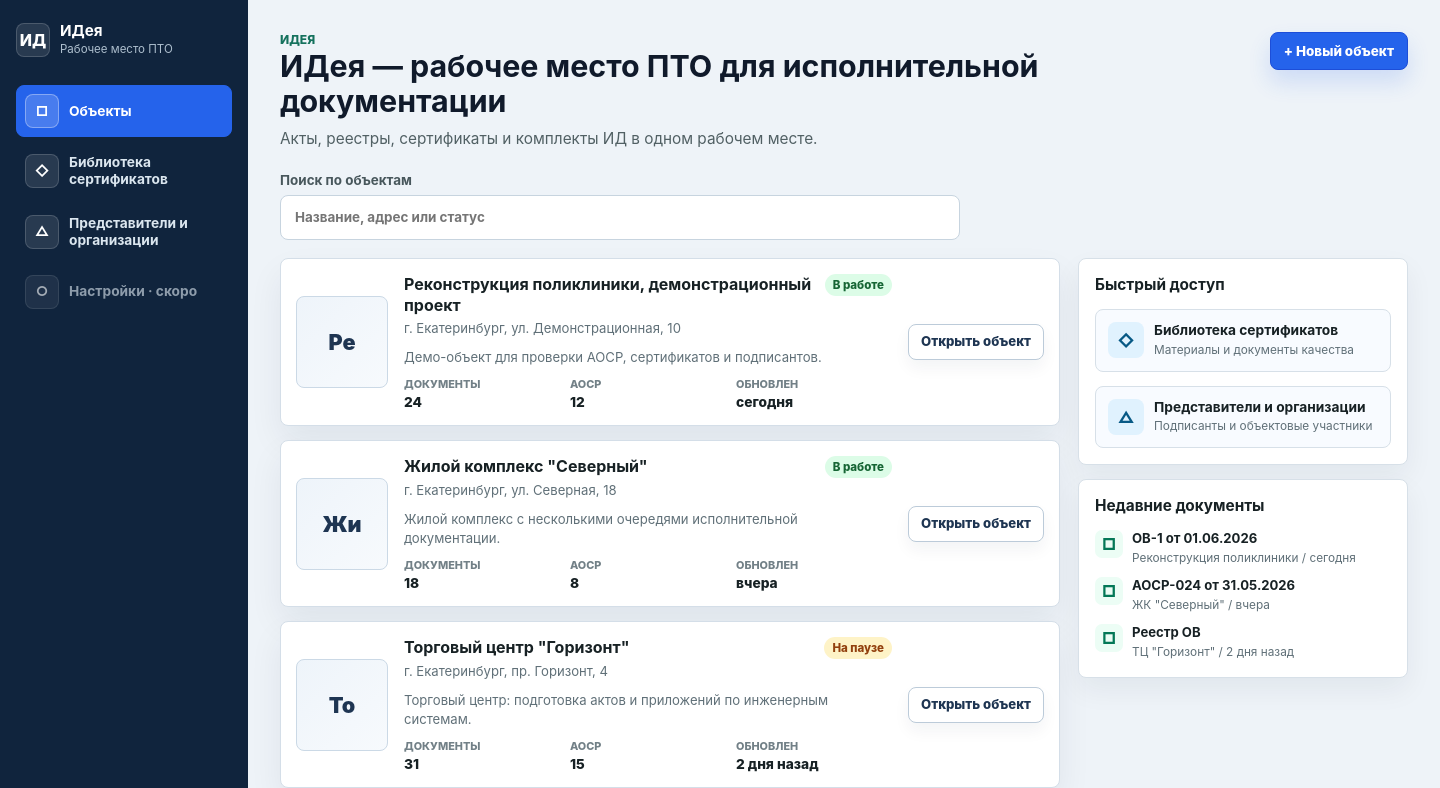
it: App shell mock navigation › opens a frontend-only intermediate ID page derived from the selected folder
This screenshot has width=1440, height=788.
Click the 1st link "Открыть объект" at (976,342), box [908, 324, 1044, 360]
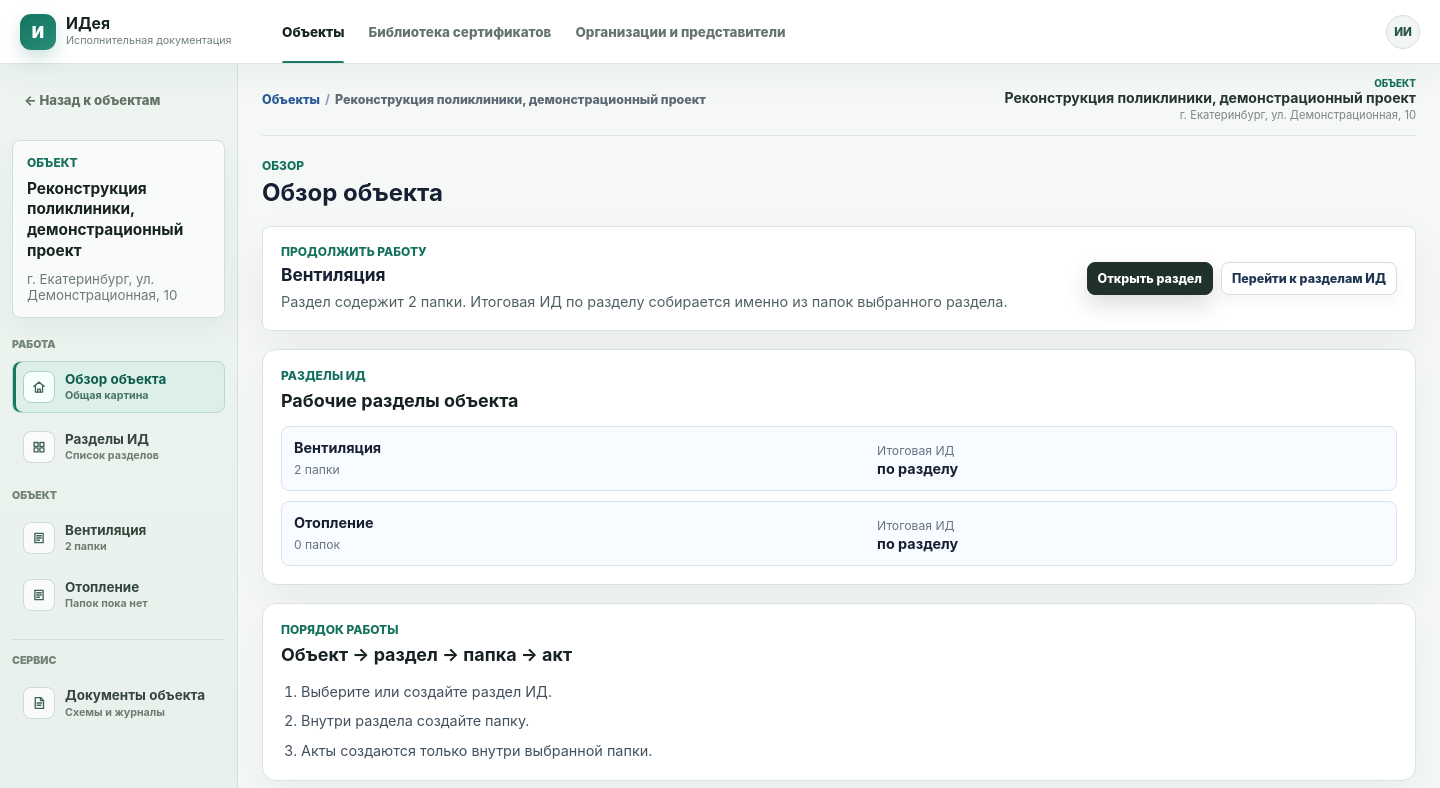
Click the link with aria-label "Открыть раздел Вентиляция" at (85,538), box [23, 522, 146, 554]
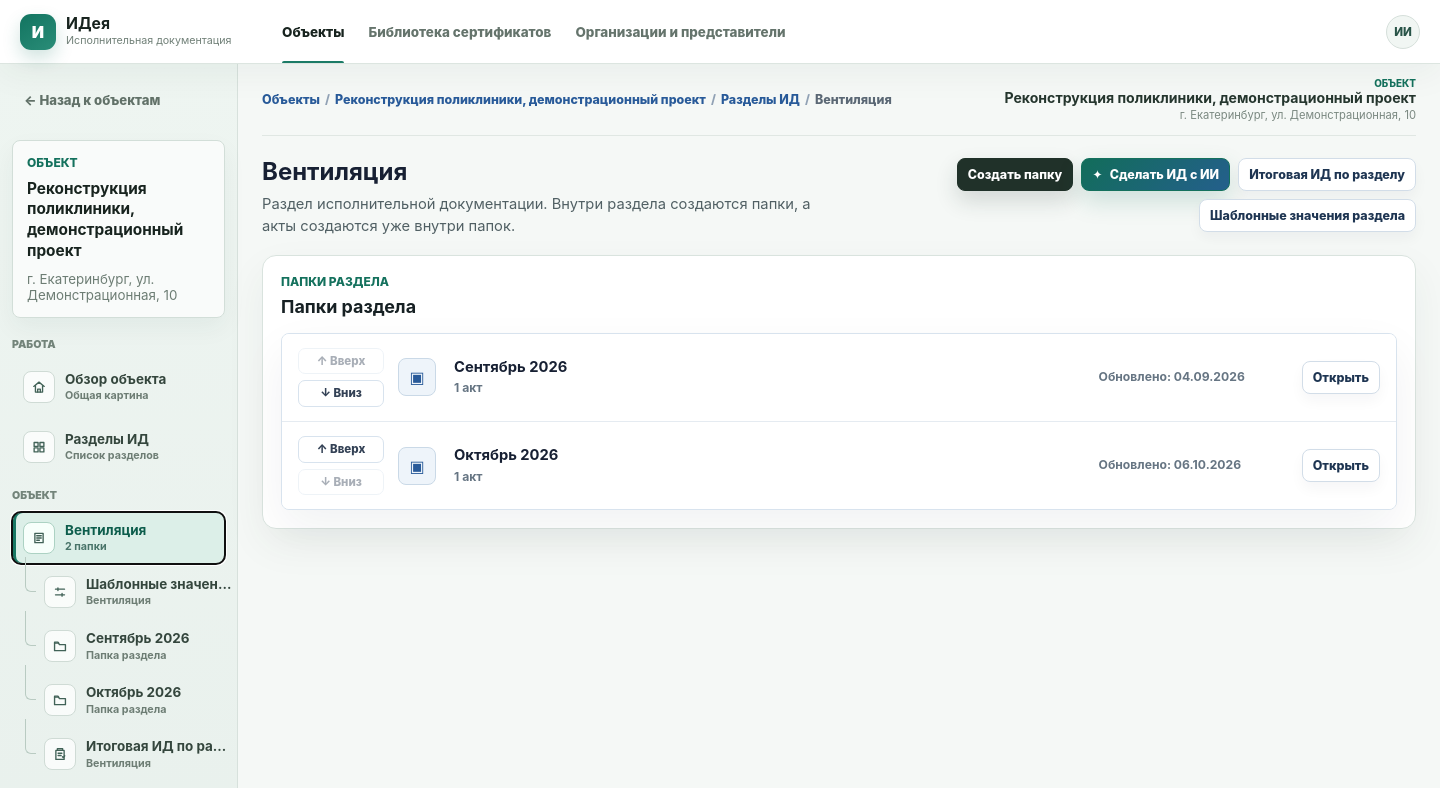
Click the link with aria-label "Открыть папку Октябрь 2026" at (113,700), box [44, 684, 181, 716]
(page scrolled)
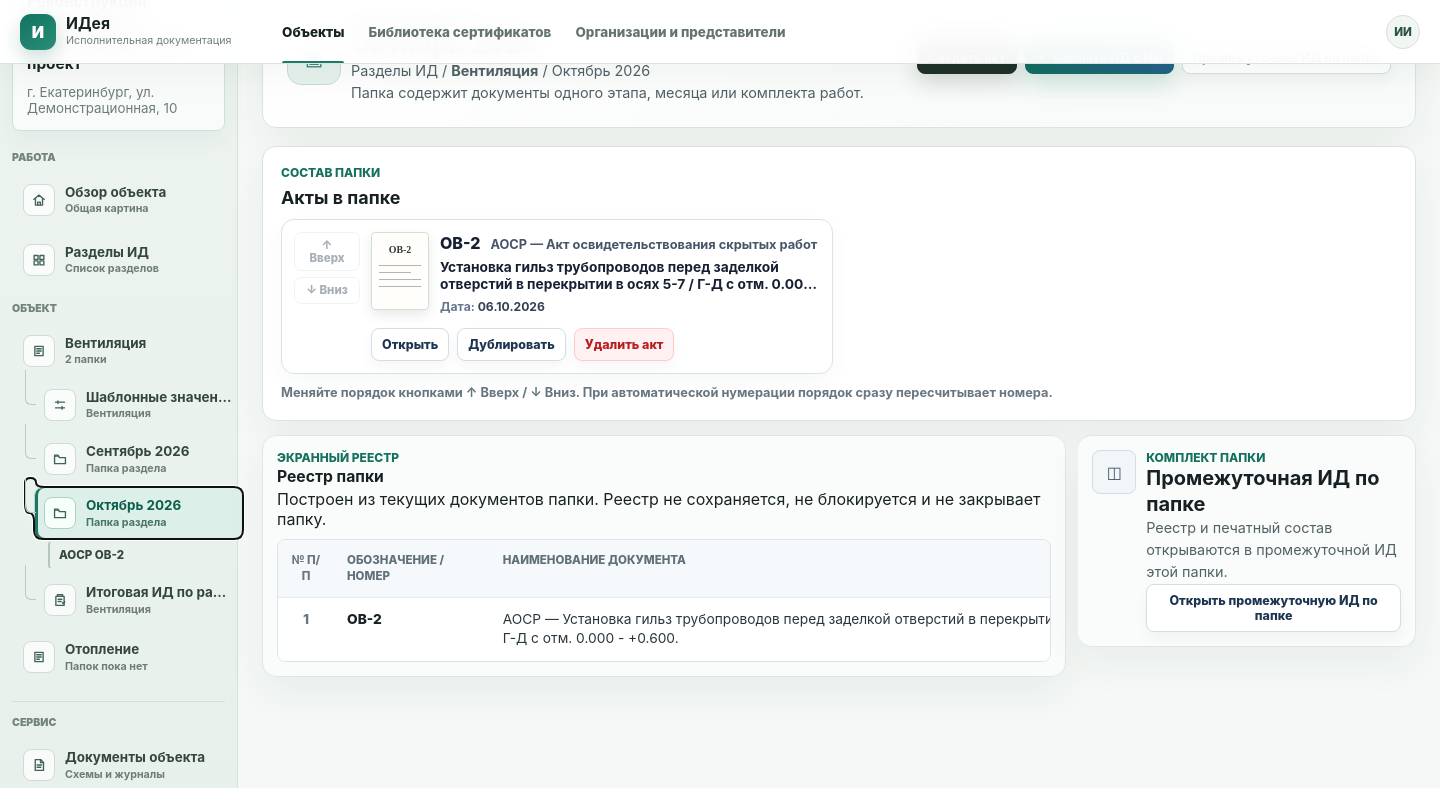
Expected: the heading "Октябрь 2026" is shown, [351, 27, 538, 59]
Click the button "Открыть промежуточную ИД по папке" at (1274,608), box [1146, 584, 1401, 632]
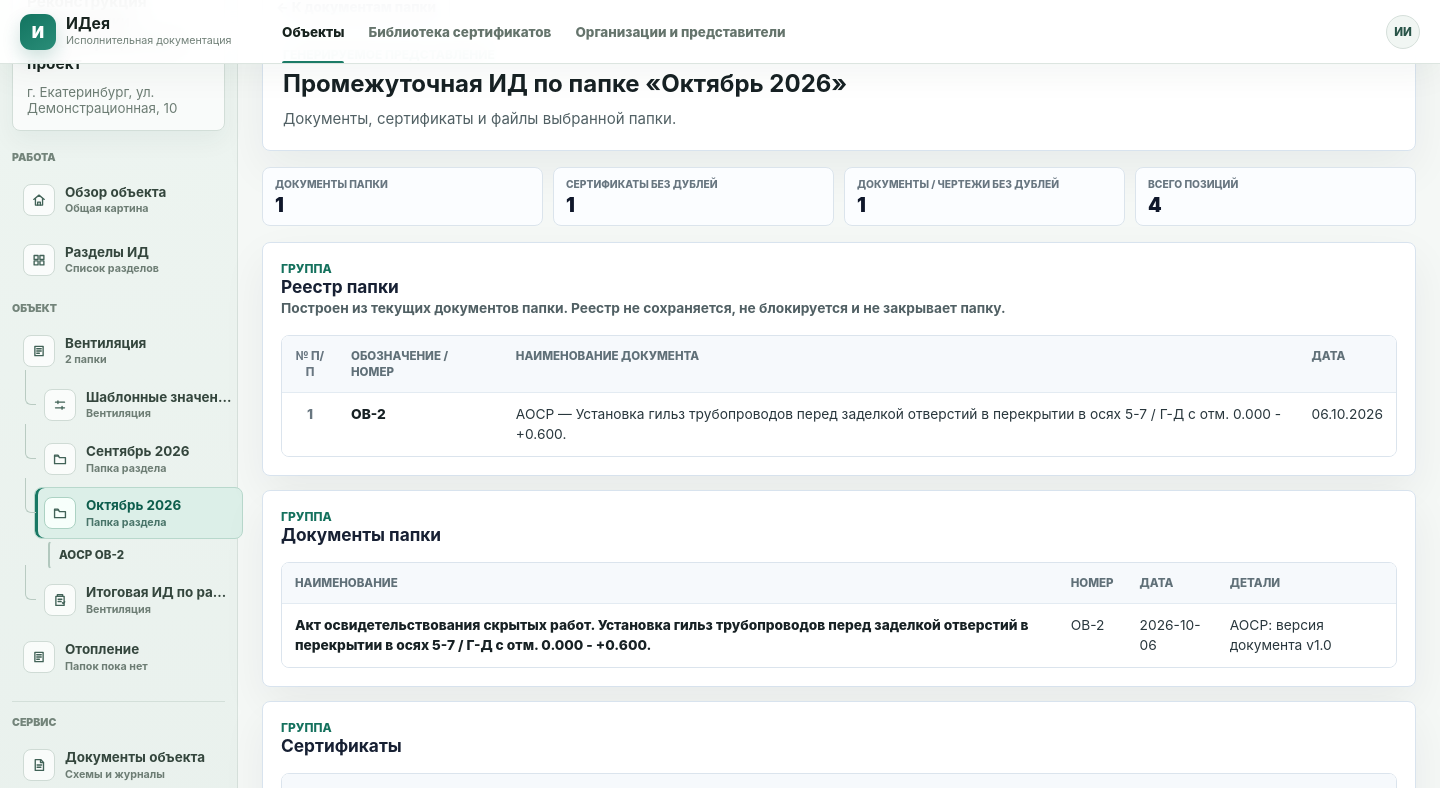
Result: the heading "Промежуточная ИД по папке «Октябрь 2026»" is shown at [283, 69, 847, 98]
Result: the text "Документы, сертификаты и файлы выбранной папки." is shown at [283, 108, 676, 128]
Result: the element named "Документы папки: 1" is shown at [262, 167, 543, 226]
